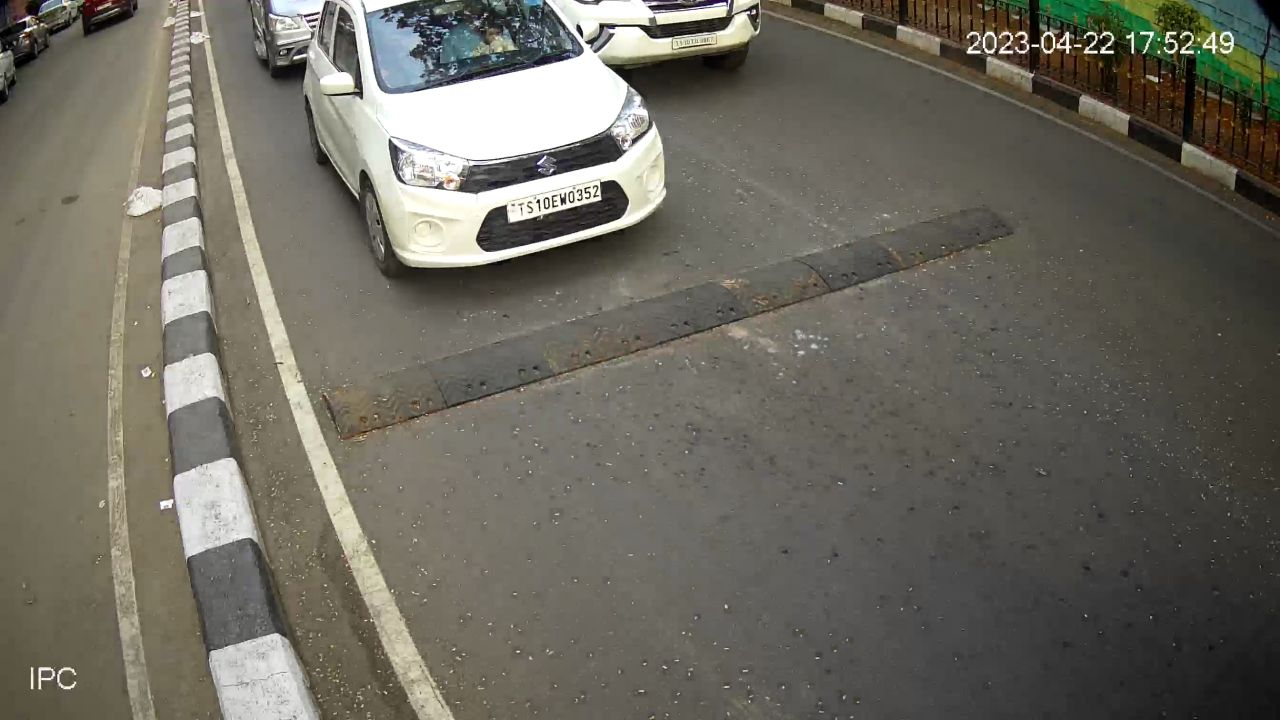license_plate: (502, 175, 612, 229), (666, 30, 724, 53)
